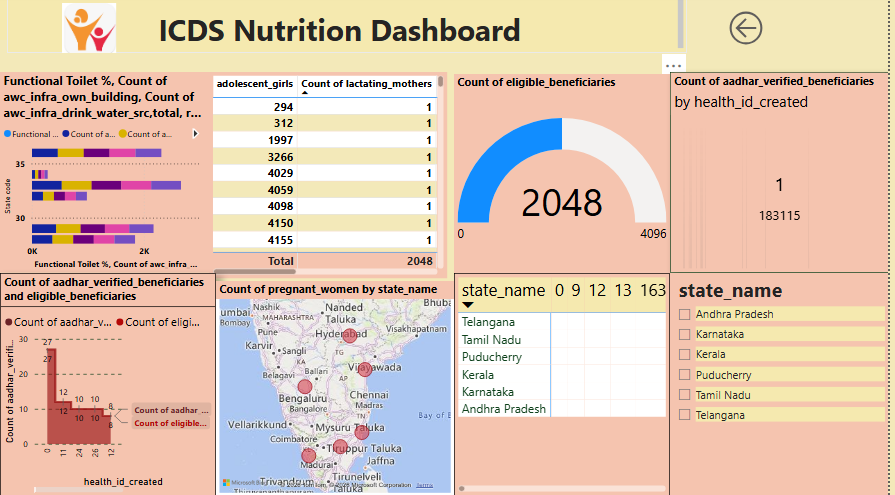

What the dashboard file says about the page in this screenshot:
{"tool":"powerbi","page":{"name":"Page 2","canvas":[1280,720],"ordinal":1},"visuals":[{"type":"barChart","title":"Functional Toilet %, Count of awc_infra_own_building, Count of awc_infra_drink_water_src,total, rural and urban by State code","fields":{"Y":["health.Functional Toilet %","CountNonNull(health.awc_infra_own_building)","CountNonNull(health.awc_infra_drink_water_src)","CountNonNull(health.awc_total)","CountNonNull(health.awc_rural)","CountNonNull(health.awc_urban)"],"Category":["ang1.State code"]},"box":[0,109.4,301,289.4],"z":0},{"type":"textbox","box":[0,0,989.3,63.4],"z":1000},{"type":"textbox","box":[10.1,0,979.2,82.1],"z":2000},{"type":"image","box":[40.3,10.1,175.7,72],"z":3000},{"type":"actionButton","box":[1044,15.8,109.4,60.5],"z":4000},{"type":"tableEx","fields":{"Values":["health.adolescent_girls","CountNonNull(health.lactating_mothers)","CountNonNull(health.pregnant_women)","health.Children 0-2 Years","CountNonNull(health.children_0_6_months)"]},"box":[301,109.4,342.7,296.6],"z":5000},{"type":"gauge","fields":{"Y":["CountNonNull(ang1.eligible_beneficiaries)"]},"box":[653.8,112.3,311,289.4],"z":6000},{"type":"kpi","fields":{"TrendLine":["health.health_id_created"],"Indicator":["CountNonNull(ang1.aadhar_verified_beneficiaries)"]},"box":[964.8,109.4,315.4,289.4],"z":7000},{"type":"areaChart","title":"Count of aadhar_verified_beneficiaries and  eligible_beneficiaries","fields":{"Category":["health.health_id_created"],"Y":["CountNonNull(ang1.aadhar_verified_beneficiaries)","CountNonNull(ang1.eligible_beneficiaries)"]},"box":[0,398.9,311,321.1],"z":8000},{"type":"map","fields":{"Category":["ang.state_name"],"Size":["CountNonNull(health.pregnant_women)"]},"box":[311,410.4,342.7,309.6],"z":9000},{"type":"pivotTable","fields":{"Rows":["state_csv.state_name"],"Columns":["ang1.anganwadi_workers","ang1.anganwadi_helpers"]},"box":[653.8,398.9,311,321.1],"z":10000},{"type":"slicer","fields":{"Values":["state_csv.state_name"]},"box":[964.8,398.9,315.4,321.1],"z":11000}]}

Visuals, with their boxes in screenshot pixels (x1, y1, x2, y2), scaled from the page's 1280x720 canvas onto the 895x495 screenshot:
"Functional Toilet %, Count of awc_infra_own_building, Count of awc_infra_drink_water_src,total, rural and urban by State code" barChart: l=0, t=75, r=210, b=274
textbox: l=0, t=0, r=692, b=44
textbox: l=7, t=0, r=692, b=56
image: l=28, t=7, r=151, b=56
actionButton: l=730, t=11, r=806, b=52
tableEx - health.adolescent_girls x CountNonNull(health.lactating_mothers): l=210, t=75, r=450, b=279
gauge - CountNonNull(ang1.eligible_beneficiaries): l=457, t=77, r=675, b=276
kpi - health.health_id_created x CountNonNull(ang1.aadhar_verified_beneficiaries): l=675, t=75, r=894, b=274
"Count of aadhar_verified_beneficiaries and  eligible_beneficiaries" areaChart: l=0, t=274, r=217, b=494
map - ang.state_name x CountNonNull(health.pregnant_women): l=217, t=282, r=457, b=494
pivotTable - state_csv.state_name x ang1.anganwadi_workers: l=457, t=274, r=675, b=494
slicer - state_csv.state_name: l=675, t=274, r=894, b=494
